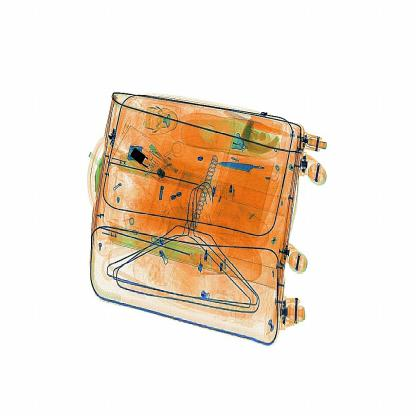wrench: (217, 158, 290, 180)
